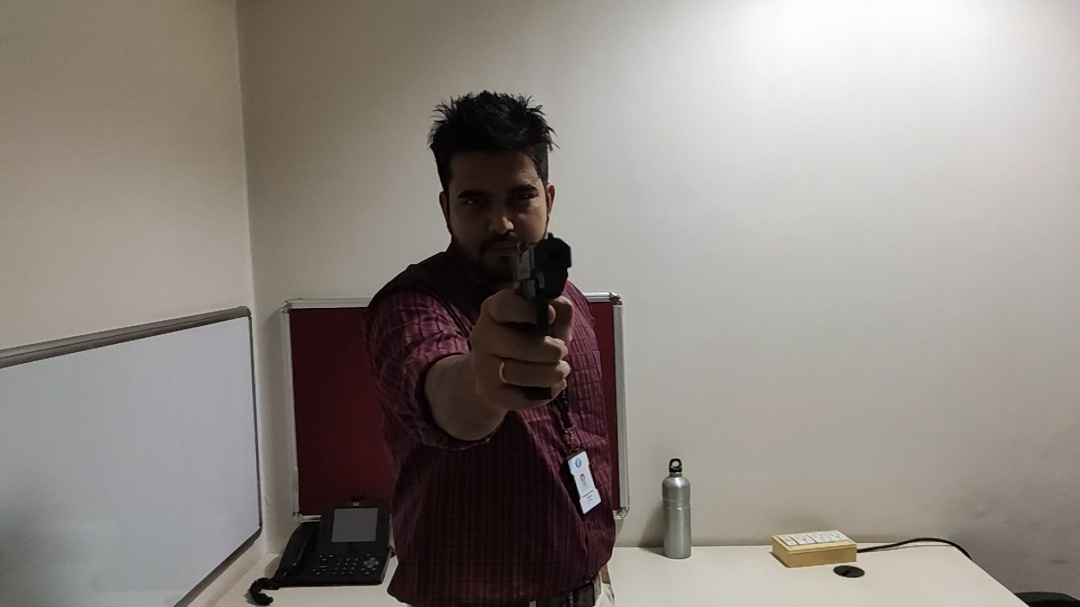gun: (501, 228, 579, 409)
